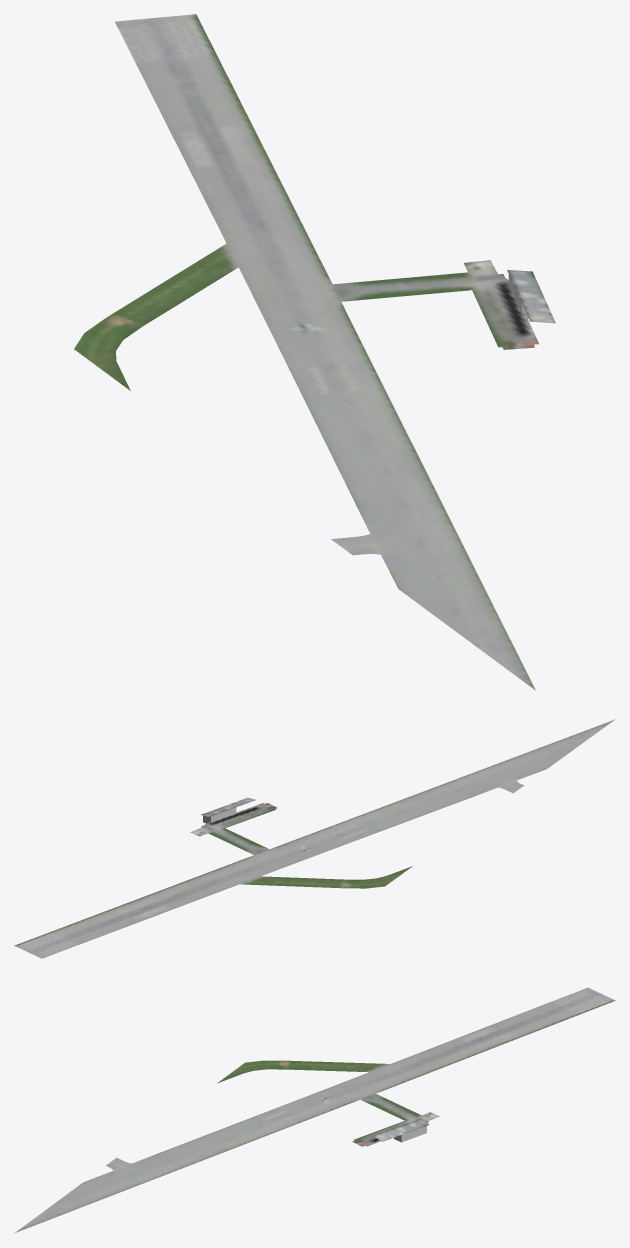
Rendered from LSZA_0_0.glb.
3 renders of one model, top to bottom at view 1: azimuth 30°, elevation 25°; view 2: azimuth 150°, elevation 25°; view 3: azimuth 330°, elevation 25°, orthographic. The views are drawn at different scales.
Visible parts, largest first — view 1: pavement_LSZA_pavement_5428_2192, pavement_LSZA_pavement_5428_2191, building_99701b73be455c80; view 2: pavement_LSZA_pavement_5428_2192, pavement_LSZA_pavement_5428_2191; view 3: pavement_LSZA_pavement_5428_2192, pavement_LSZA_pavement_5428_2191, building_99701b73be455c80.
Part boxes in pixels (box(x1,y1,x2,y2)): pavement_LSZA_pavement_5428_2192: box(74, 14, 508, 378); pavement_LSZA_pavement_5428_2191: box(115, 282, 538, 690); building_99701b73be455c80: box(507, 269, 555, 323); pavement_LSZA_pavement_5428_2192: box(14, 823, 404, 958); pavement_LSZA_pavement_5428_2191: box(208, 719, 615, 871); pavement_LSZA_pavement_5428_2192: box(225, 987, 615, 1122); pavement_LSZA_pavement_5428_2191: box(14, 1078, 409, 1233); building_99701b73be455c80: box(374, 1119, 429, 1141).
Size of the model in its own units: 179 by 7.68 by 563.
3 materials, 2 textured.
